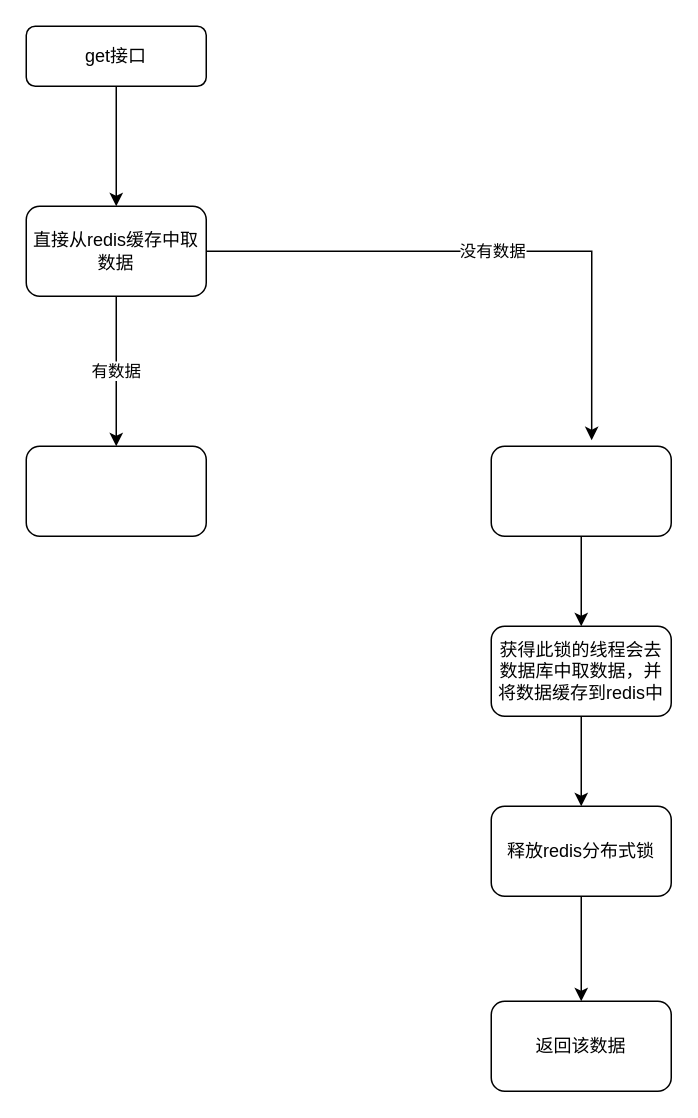
Some shapes in this 698 by 1118 pixel diagram are drawn without their labels. The centre of each missing label's shape, as x and y in pixels:
"添加redis分布式锁" goes at pixel 580 490.
"直接返回该数据" goes at pixel 115 490.
